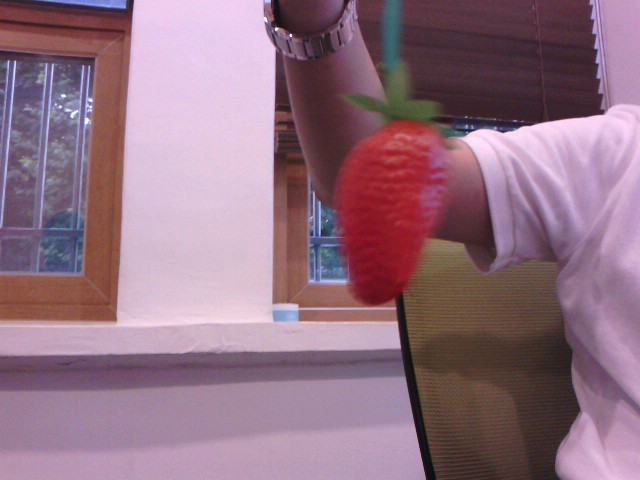strawberry: (329, 105, 448, 310)
